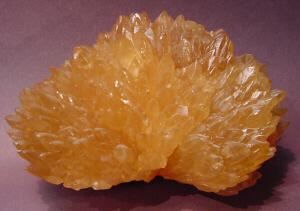calcite: (6, 12, 290, 196)
